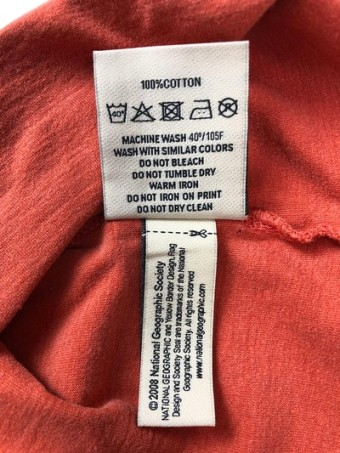ER_iron_medium_temp: (188, 95, 215, 124)
ER_no_bleach: (130, 100, 157, 126)
ER_no_tumble_dry: (159, 99, 184, 123)
ER_wash_40: (103, 99, 130, 126)
